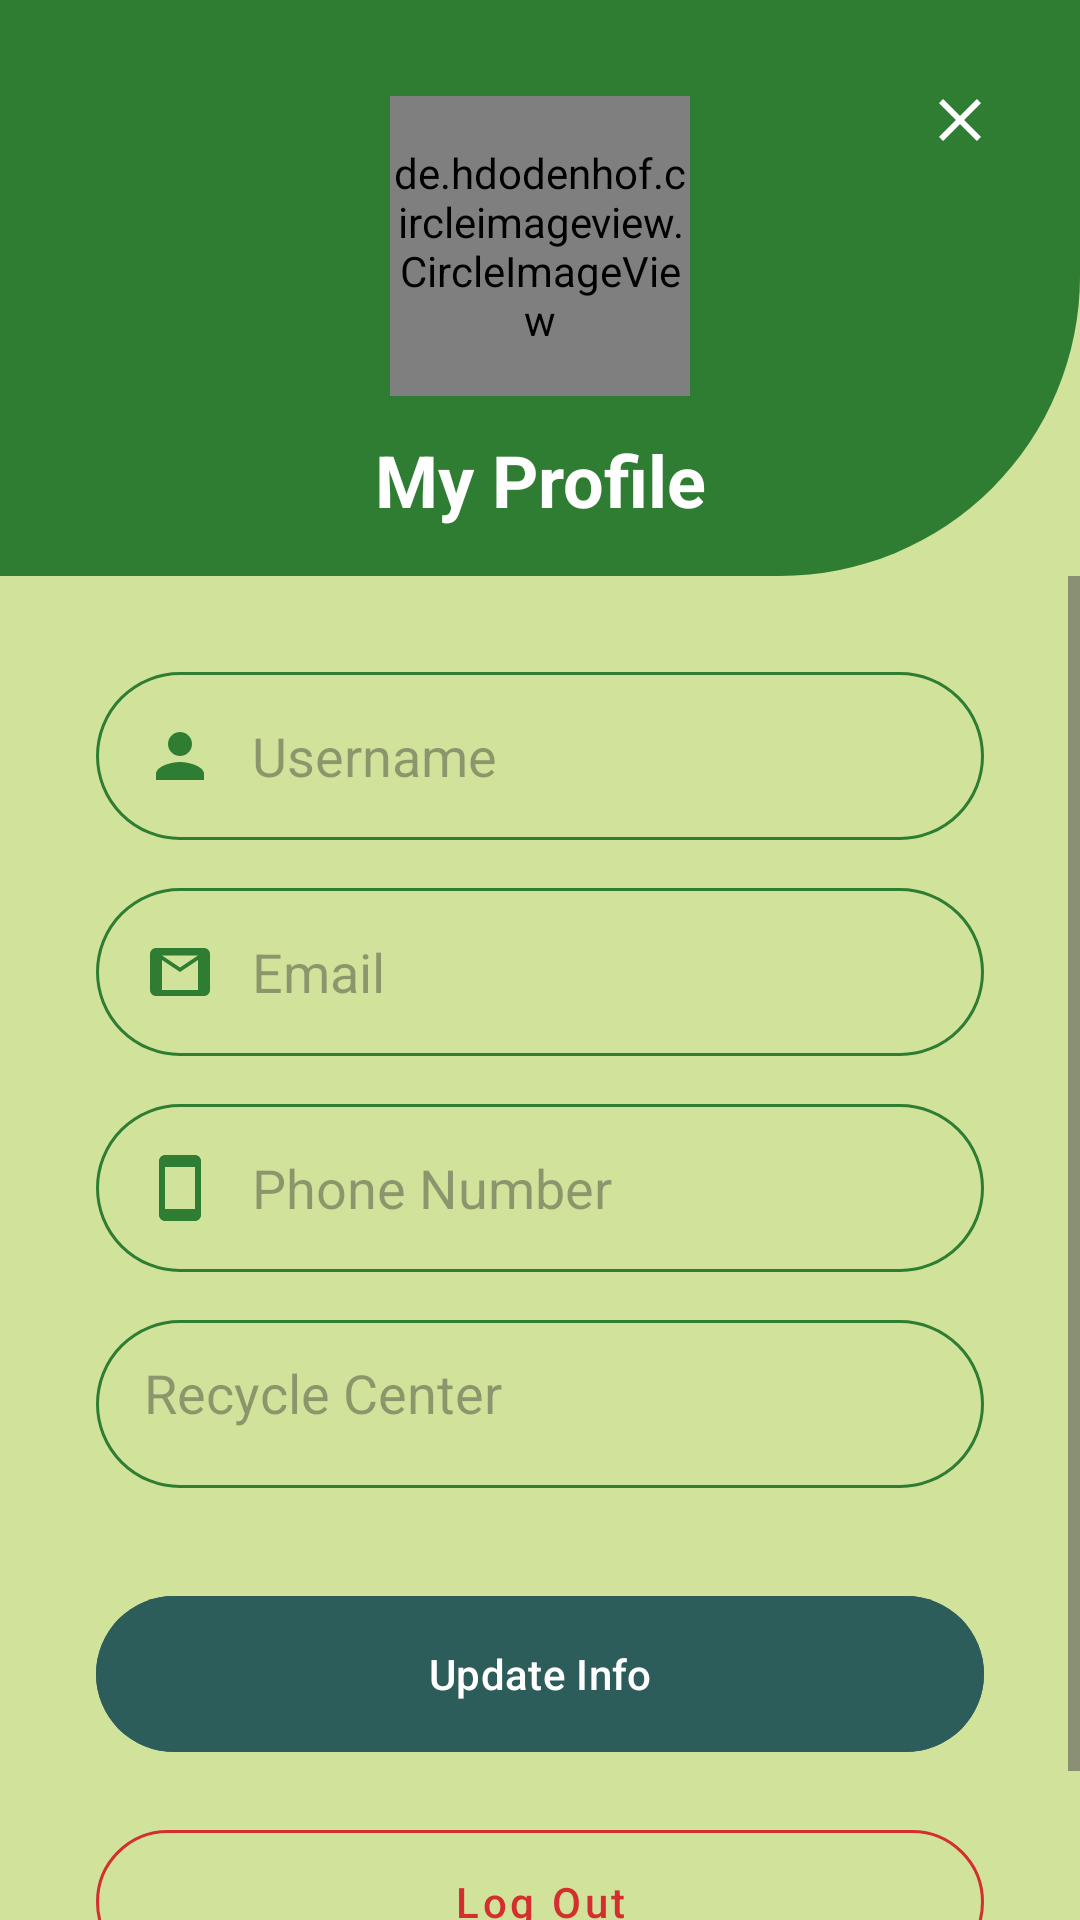

Icons on this 1080 x 1920 Android screen, each with its box as (x1, y1, x2, y2):
close: (939, 99, 981, 141)
